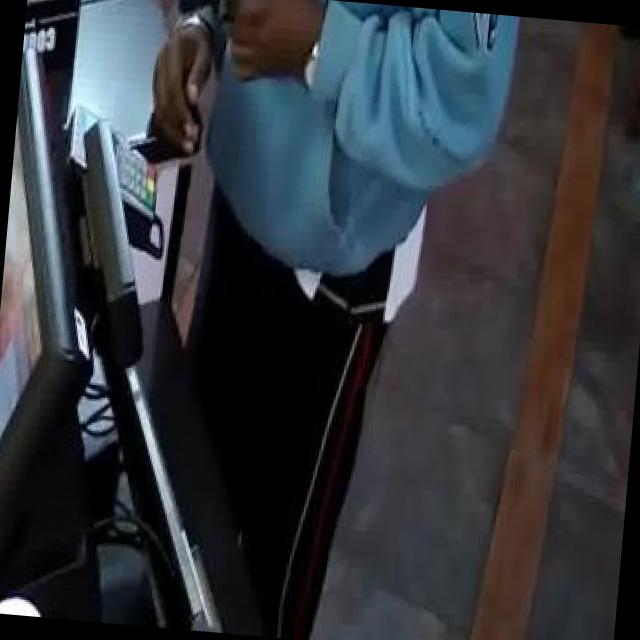Guns: (157, 0, 308, 57)
